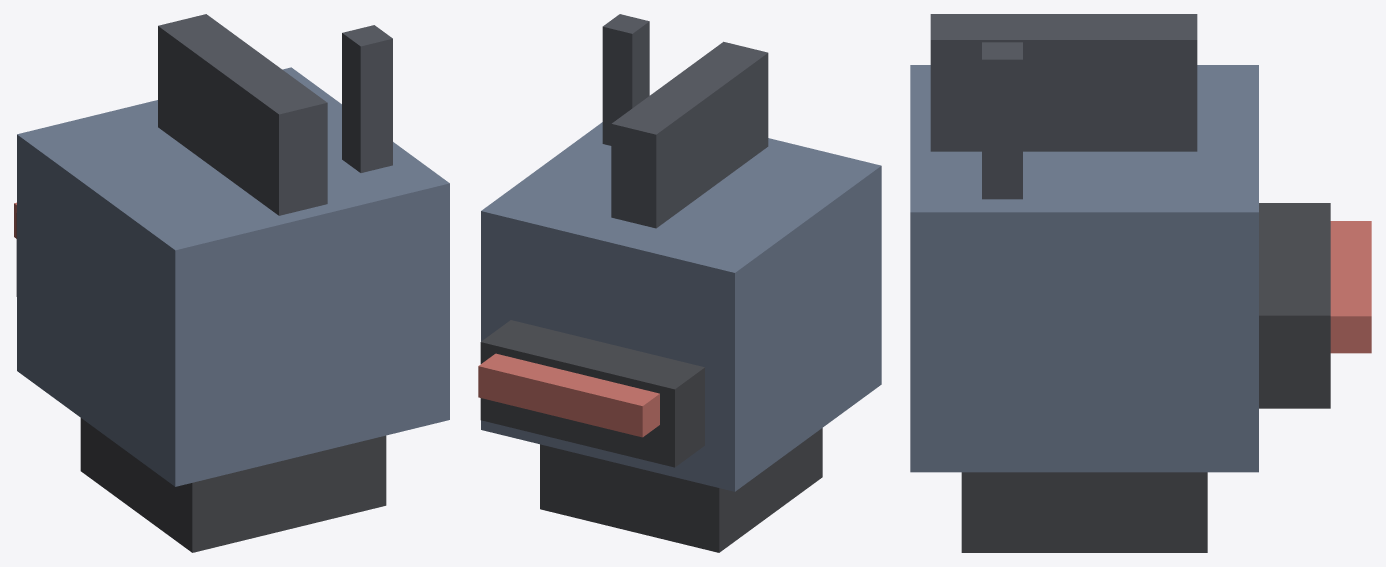
The model's file is tankmech_head.glb.
3 renders of one model, left to right at view 1: azimuth 30°, elevation 25°; view 2: azimuth 150°, elevation 25°; view 3: azimuth 270°, elevation 25°, orthographic. The views are drawn at different scales.
Visible parts, largest first — view 1: head_helm, head_crest, head_neck, head_antenna; view 2: head_helm, head_crest, head_neck, head_face, head_visor, head_antenna; view 3: head_helm, head_crest, head_neck, head_face, head_antenna, head_visor.
Part boxes in pixels (x1=…): head_helm: x1=17, y1=67, x2=449, y2=486; head_crest: x1=158, y1=14, x2=327, y2=215; head_neck: x1=80, y1=418, x2=386, y2=552; head_antenna: x1=342, y1=25, x2=392, y2=172; head_helm: x1=481, y1=122, x2=881, y2=491; head_crest: x1=611, y1=41, x2=768, y2=228; head_neck: x1=540, y1=428, x2=822, y2=552; head_face: x1=480, y1=320, x2=704, y2=467; head_visor: x1=478, y1=353, x2=659, y2=437; head_antenna: x1=602, y1=14, x2=649, y2=145; head_helm: x1=910, y1=65, x2=1258, y2=472; head_crest: x1=930, y1=14, x2=1197, y2=151; head_neck: x1=961, y1=472, x2=1207, y2=552; head_face: x1=1259, y1=203, x2=1330, y2=408; head_antenna: x1=982, y1=42, x2=1022, y2=199; head_visor: x1=1330, y1=221, x2=1371, y2=353.
Size of the model in its own units: 0.34 by 0.54 by 0.45.
